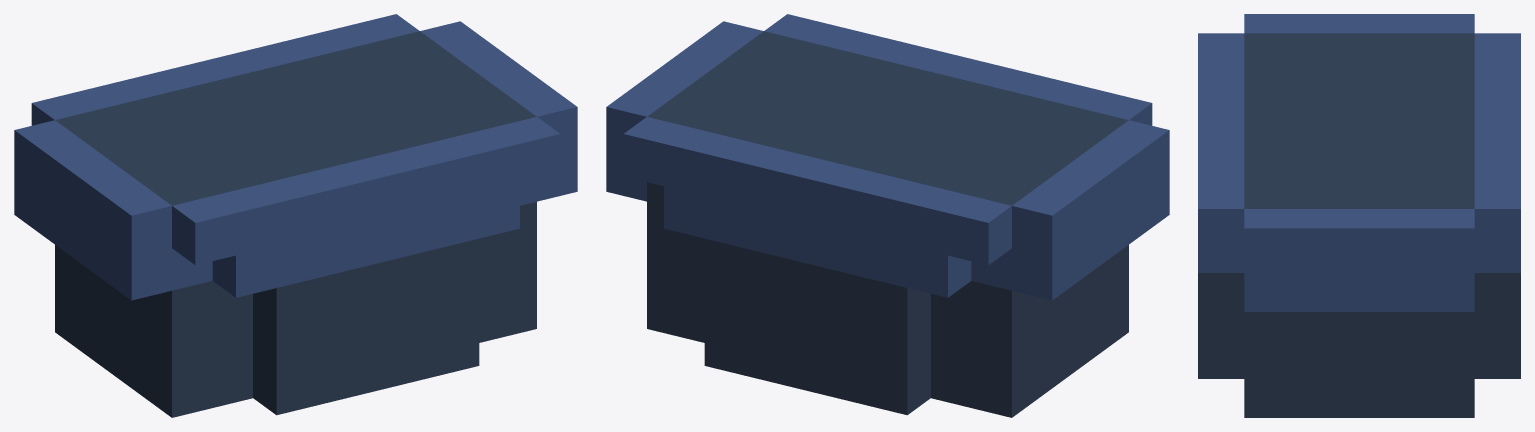
File: MArcherTrunk.fbx
3 renders of one model, left to right at view 1: azimuth 30°, elevation 25°; view 2: azimuth 150°, elevation 25°; view 3: azimuth 270°, elevation 25°, orthographic.
Visible parts, largest first — view 1: RamzaTrunk_1; view 2: RamzaTrunk_1; view 3: RamzaTrunk_1.
Part boxes in pixels (x1=…): RamzaTrunk_1: x1=14, y1=14, x2=577, y2=417; RamzaTrunk_1: x1=606, y1=14, x2=1169, y2=417; RamzaTrunk_1: x1=1198, y1=14, x2=1520, y2=417.
Size of the model in its own units: 11 by 5 by 7.
Materials: 1 (1 with a texture image).
